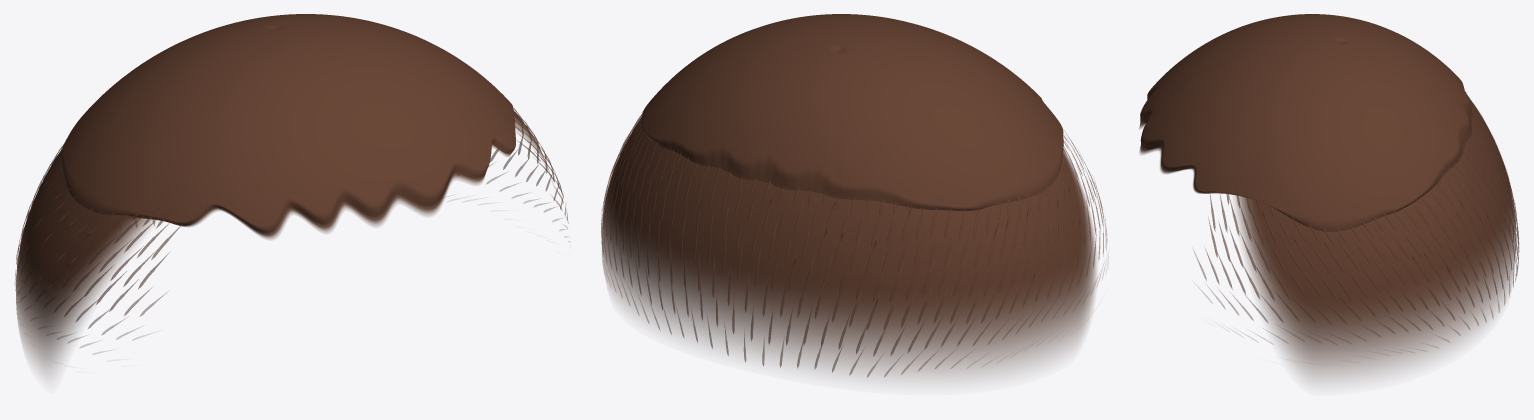
File: Masculine-sidepart-cap259-hair.glb
3 renders of one model, left to right at view 1: azimuth 30°, elevation 25°; view 2: azimuth 150°, elevation 25°; view 3: azimuth 270°, elevation 25°, orthographic. The views are drawn at different scales.
Visible parts, largest first — view 1: 226 hair / Hair259 / textured forward Crop, 226 hair / Hair258 / smooth side fade, 226 hair / Hair259 / directional fade marks214; view 2: 226 hair / Hair258 / smooth side fade, 226 hair / Hair259 / textured forward Crop, 226 hair / Hair259 / directional fade marks214; view 3: 226 hair / Hair259 / textured forward Crop, 226 hair / Hair258 / smooth side fade, 226 hair / Hair259 / directional fade marks214.
Boxes of the visible parts, x1,y1,x2,y2 form: 226 hair / Hair259 / textured forward Crop: (61,14,515,239); 226 hair / Hair258 / smooth side fade: (16,110,551,375); 226 hair / Hair259 / directional fade marks214: (15,107,568,354); 226 hair / Hair258 / smooth side fade: (602,117,1096,379); 226 hair / Hair259 / textured forward Crop: (641,14,1063,210); 226 hair / Hair259 / directional fade marks214: (601,114,1108,377); 226 hair / Hair259 / textured forward Crop: (1139,14,1472,231); 226 hair / Hair258 / smooth side fade: (1234,99,1516,381); 226 hair / Hair259 / directional fade marks214: (1193,96,1519,351).
Size of the model in its own units: 0.9743 by 0.584 by 0.7545.
